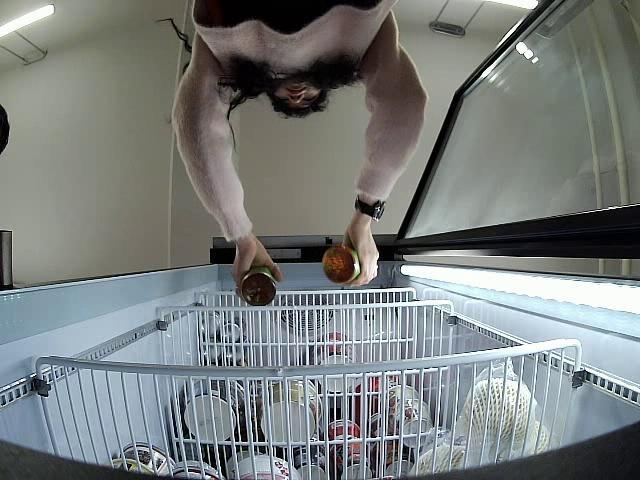19_17cha: (322, 243, 361, 286), (238, 266, 276, 306)
